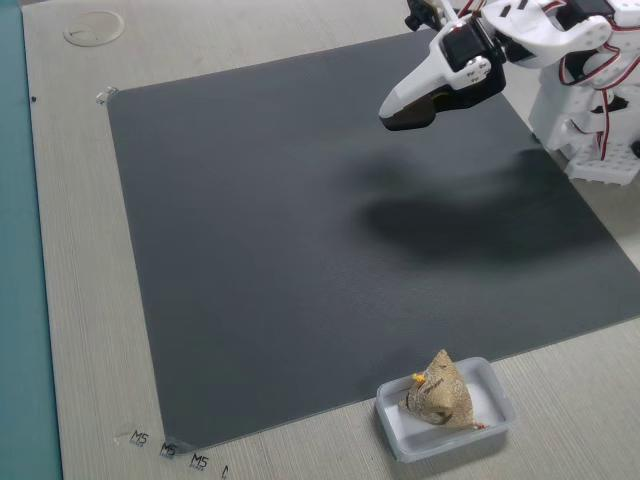objects: (374, 6, 493, 136)
